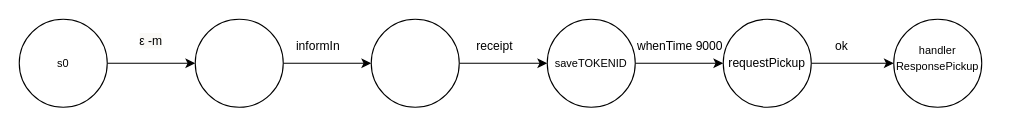
The diagram is 1018 pixels wide and 127 high, and some of its shapes have lost their labels. Each missing label, with the box of its shape:
carEnter: (370, 18, 459, 107)
requestToEnter: (194, 18, 283, 107)
